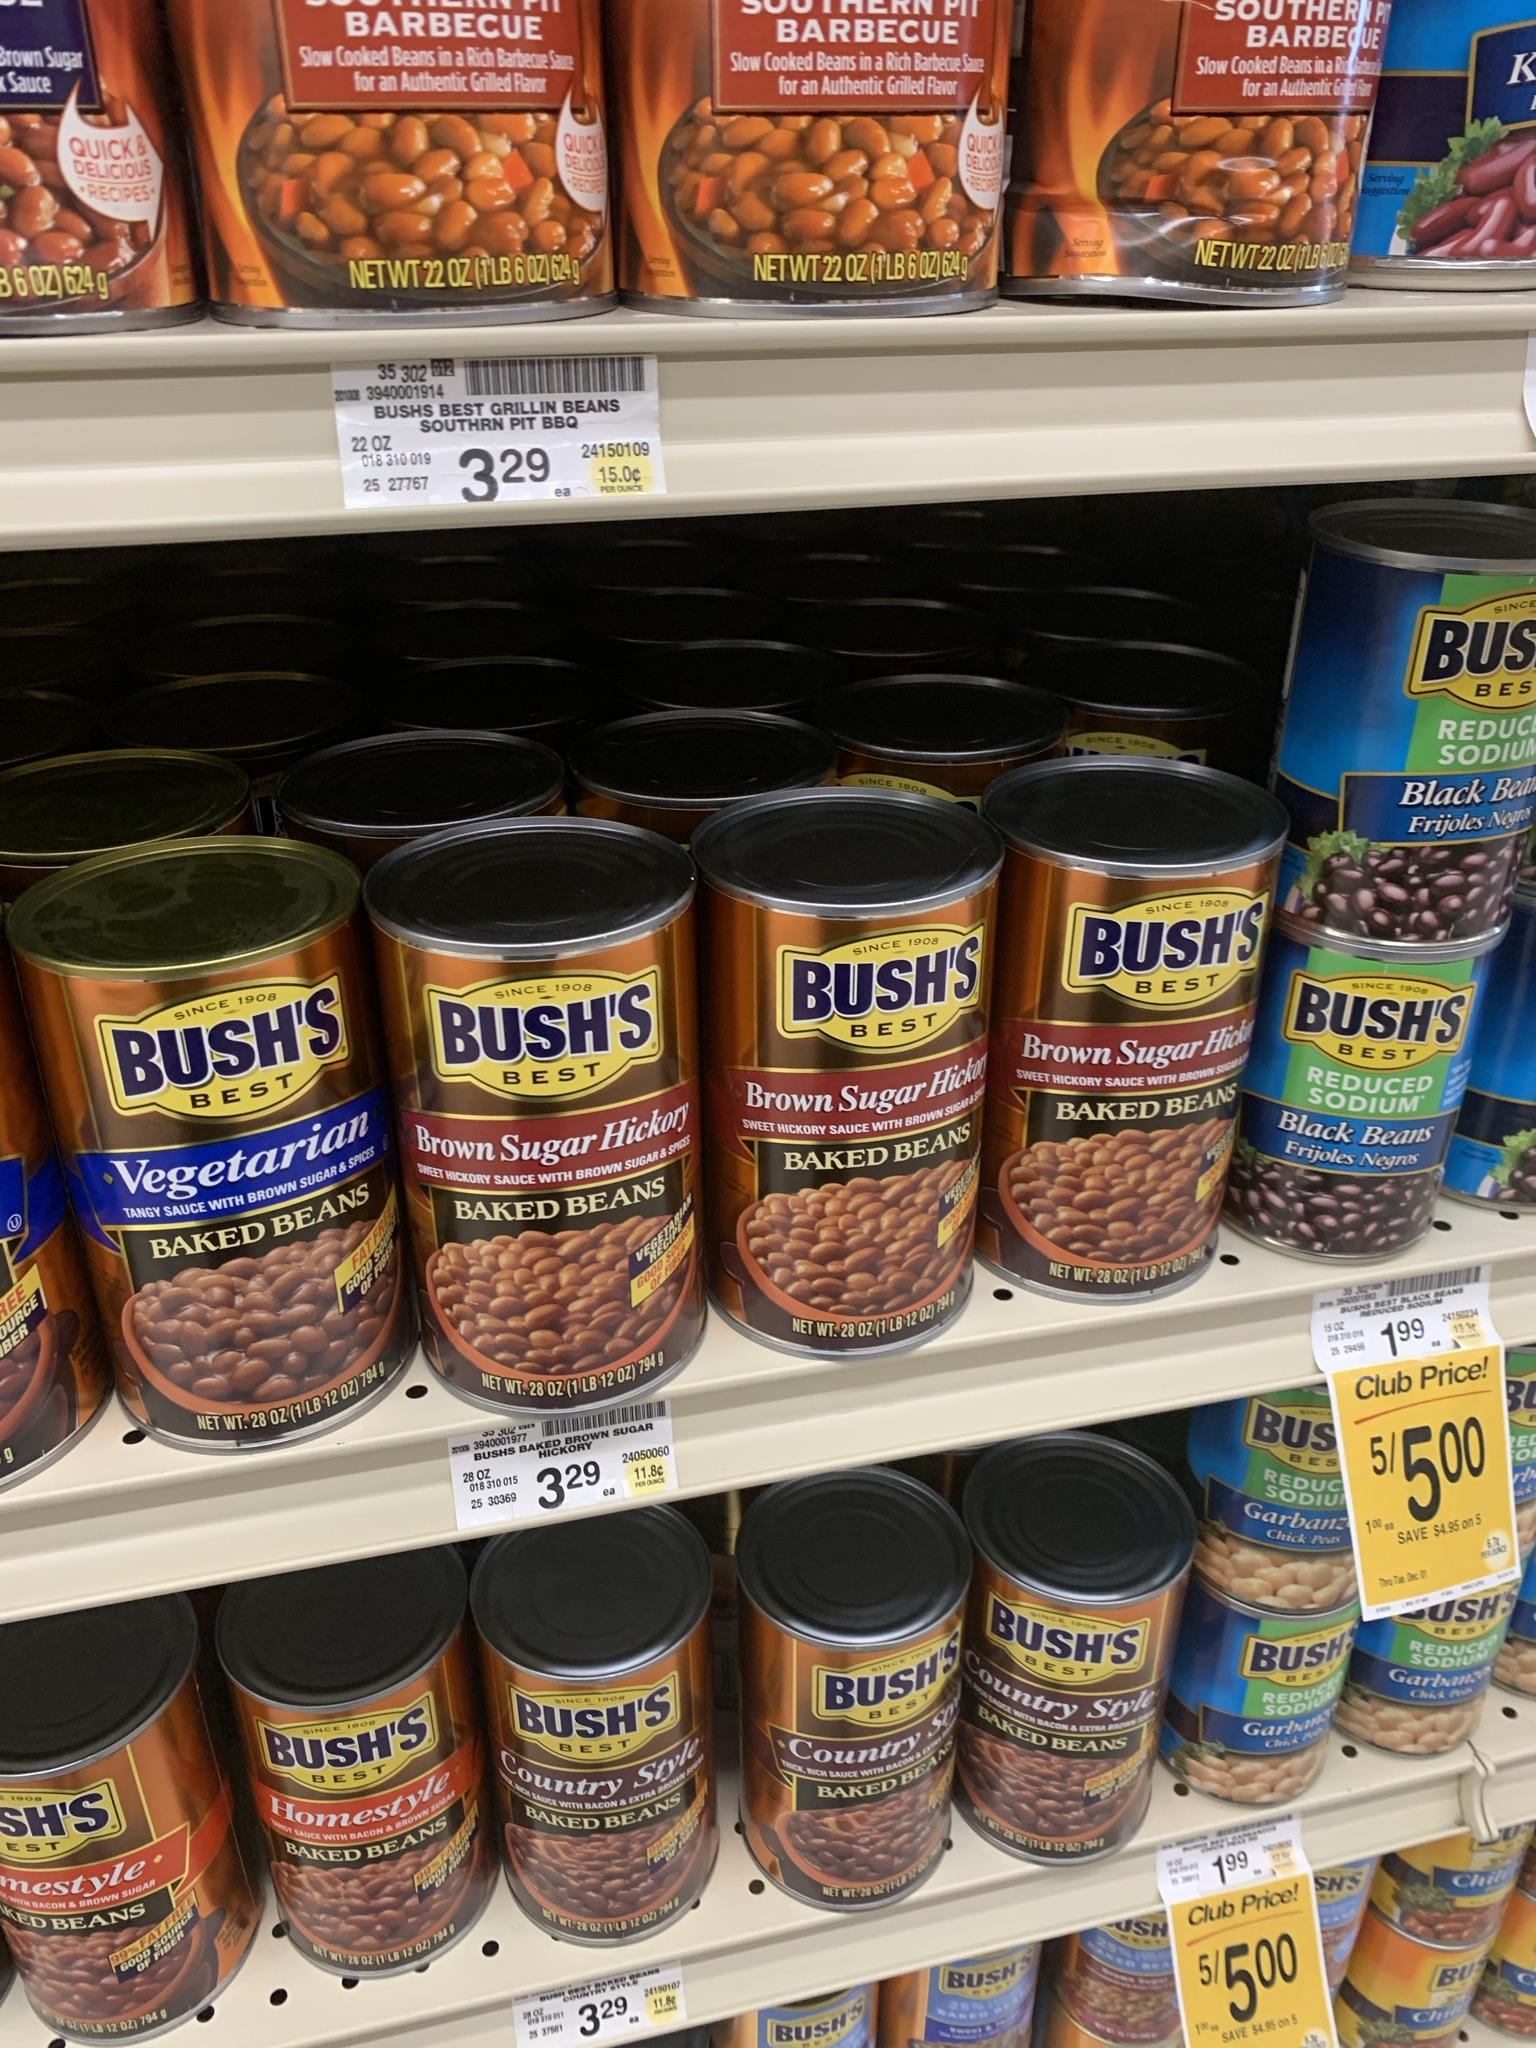can: (411, 847, 691, 1353), (111, 897, 387, 1393), (716, 853, 978, 1330), (1026, 808, 1218, 1271), (1326, 552, 1526, 932), (749, 1543, 950, 1879), (503, 1584, 712, 1900), (263, 1625, 481, 1927), (2, 1672, 207, 1972), (994, 1519, 1163, 1838), (1271, 961, 1431, 1253), (1218, 1609, 1318, 1798)
